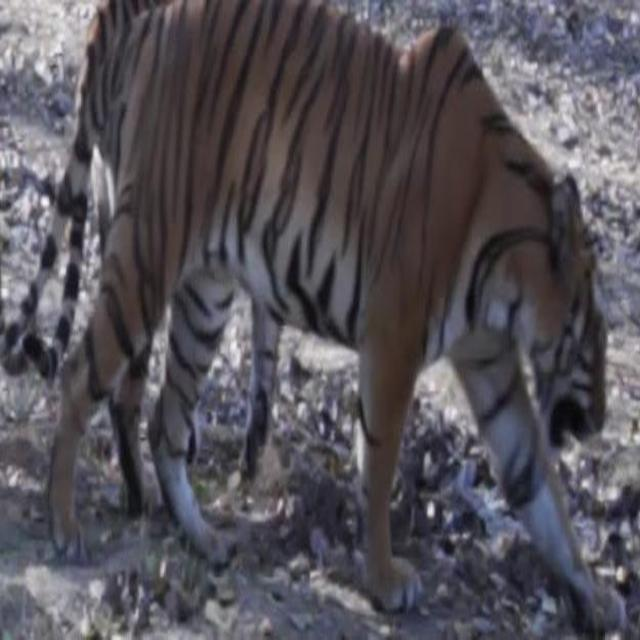tiger: (11, 0, 623, 635)
